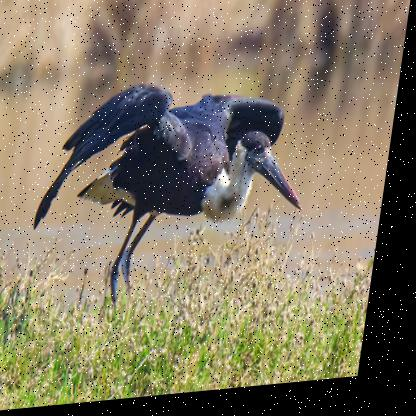Burung: (25, 82, 322, 319)
